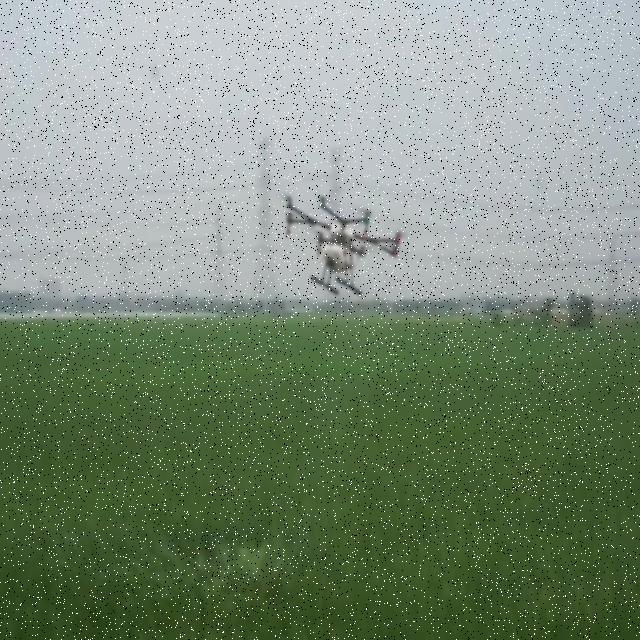UAV: (282, 193, 406, 297)
